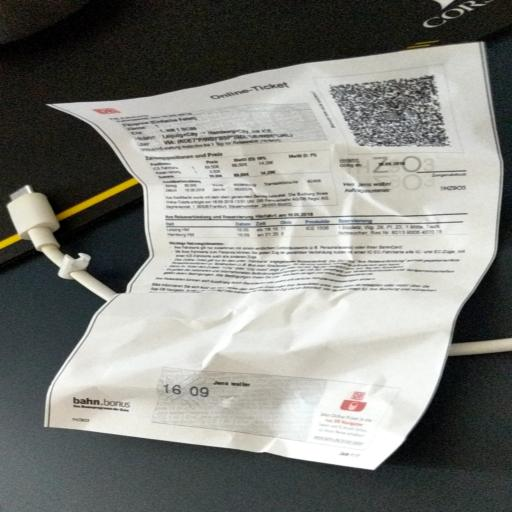paper: (38, 27, 512, 475)
